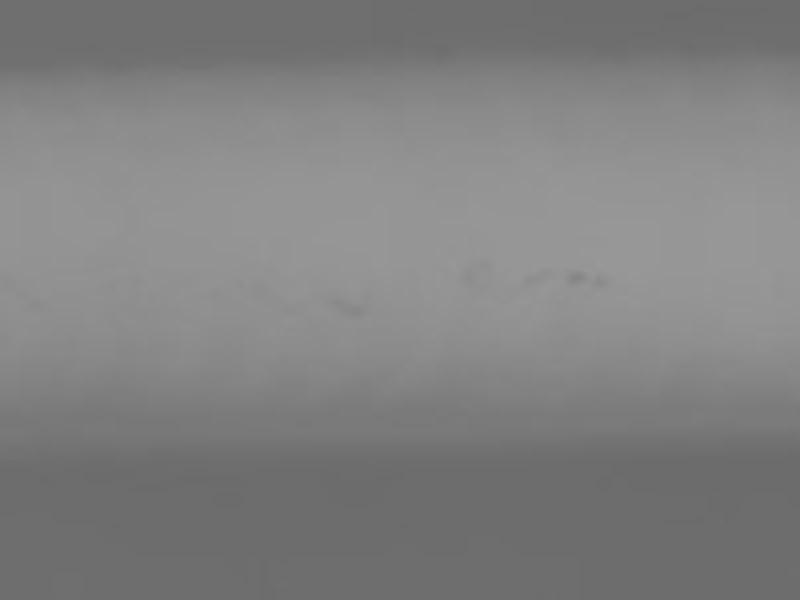defect: (523, 265, 554, 289), (338, 299, 371, 321), (595, 270, 617, 289), (566, 266, 589, 283), (327, 292, 339, 304)
